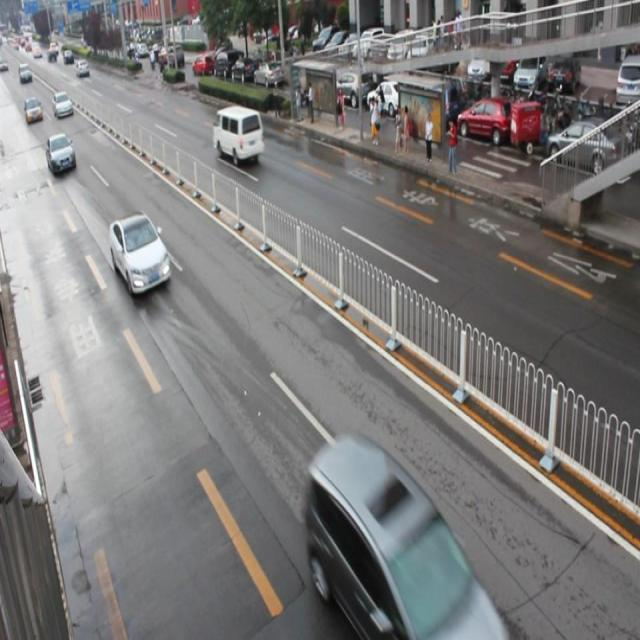car: (109, 212, 171, 298), (46, 132, 76, 176)
truck: (308, 435, 495, 640), (212, 105, 263, 160)
